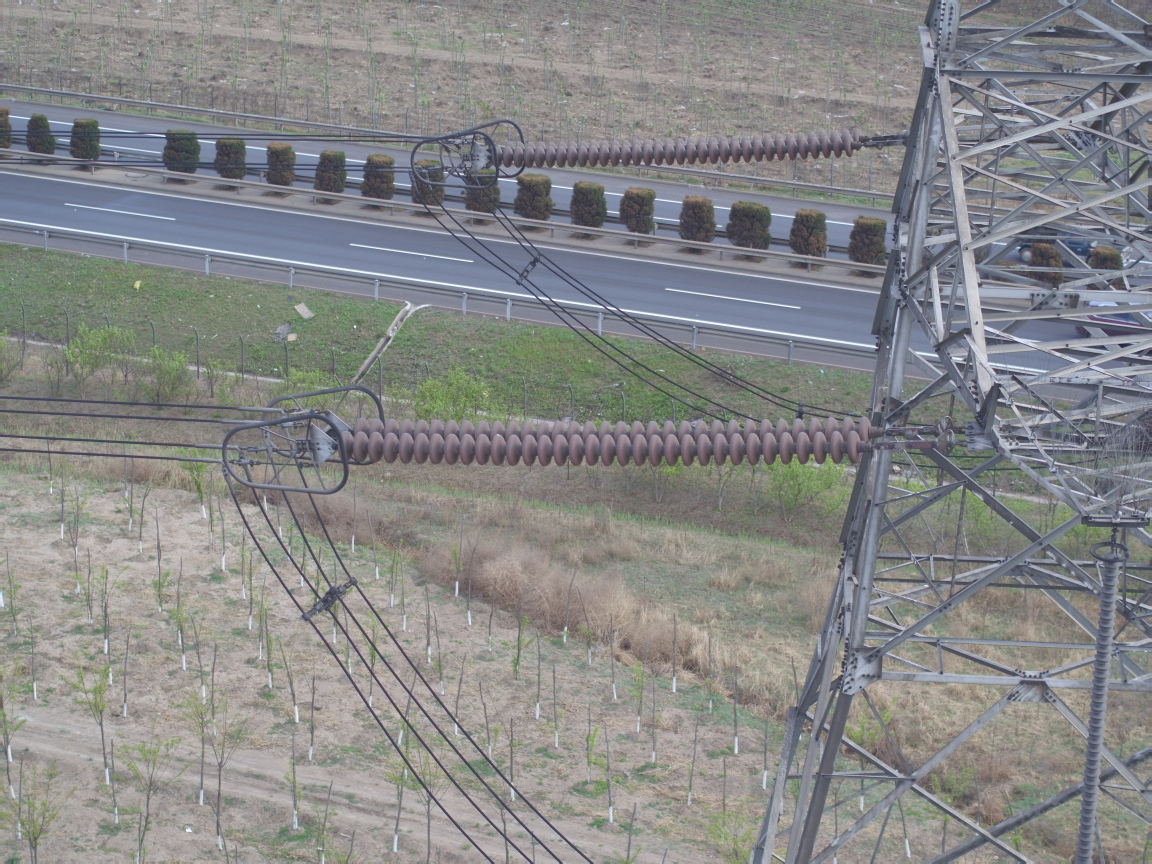insulator: (323, 410, 922, 467), (481, 126, 879, 174)
